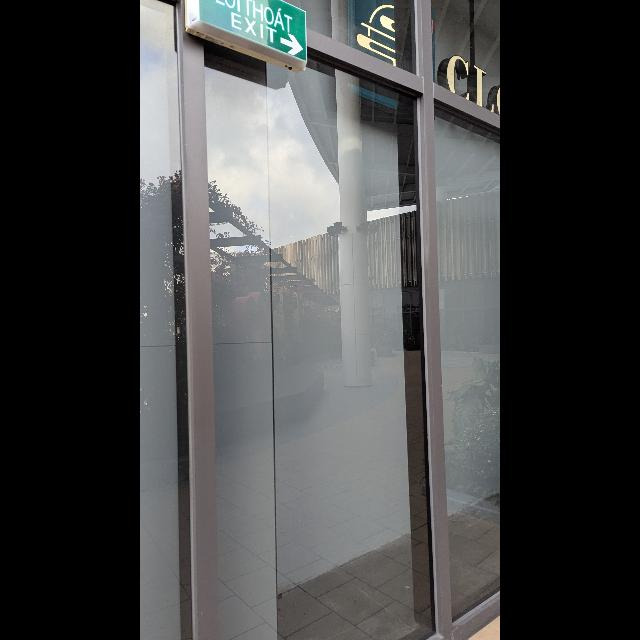exit: (194, 1, 306, 62)
